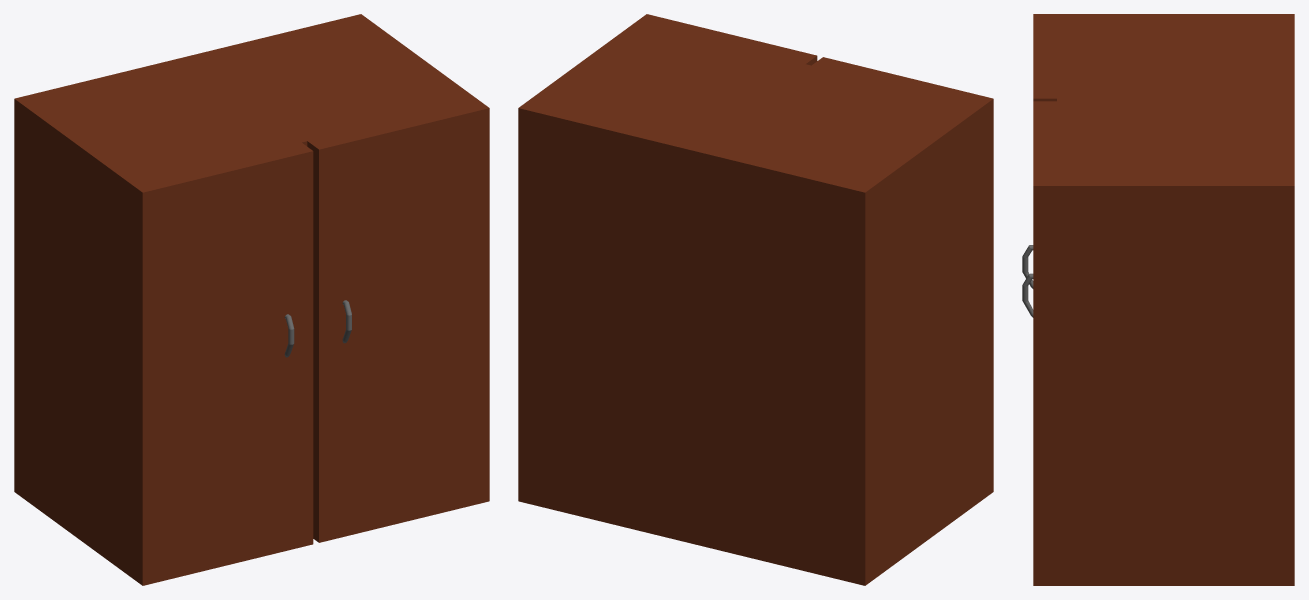
Rendered from ArmarioCocina.fbx.
The picture shows the model from 3 angles, left to right: view 1: azimuth 30°, elevation 25°; view 2: azimuth 150°, elevation 25°; view 3: azimuth 270°, elevation 25°; orthographic projection.
Visible parts, largest first — view 1: Torus; view 2: Torus; view 3: Torus.
Part boxes in pixels (x1,y1,x2,y2): Torus: [14, 14, 489, 585]; Torus: [518, 14, 993, 585]; Torus: [1022, 14, 1294, 585].
Bounding box in the file's own units: 1200 × 1300 × 802.
